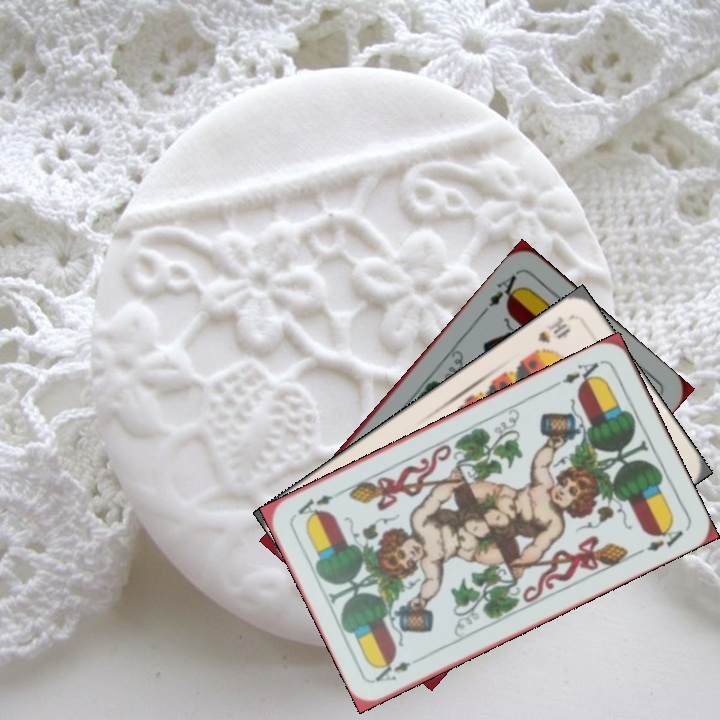EA: (478, 271, 525, 317), (370, 652, 427, 685), (549, 358, 603, 390)
S10: (533, 312, 573, 346)
